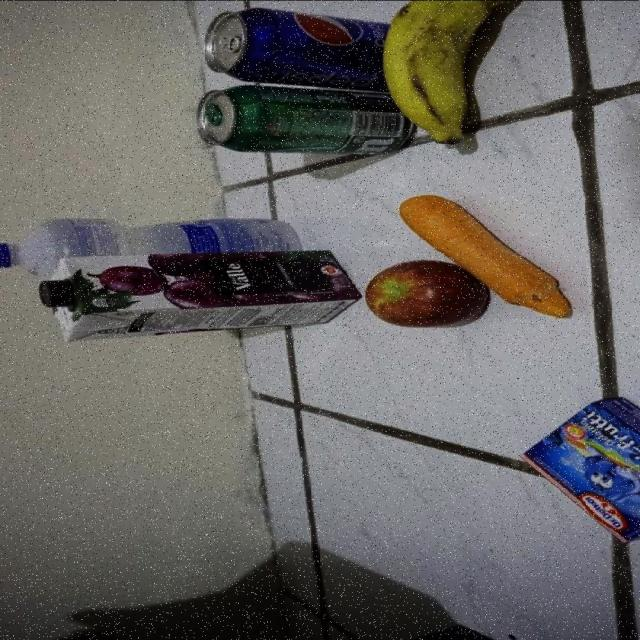AlcoholBottle: (0, 215, 300, 279)
Apple: (364, 257, 493, 330)
Banana: (382, 0, 585, 146)
BeerCan: (196, 85, 414, 153)
Carrot: (399, 194, 572, 318)
Gelatine: (518, 396, 640, 546)
SodaCan: (202, 6, 416, 83)
